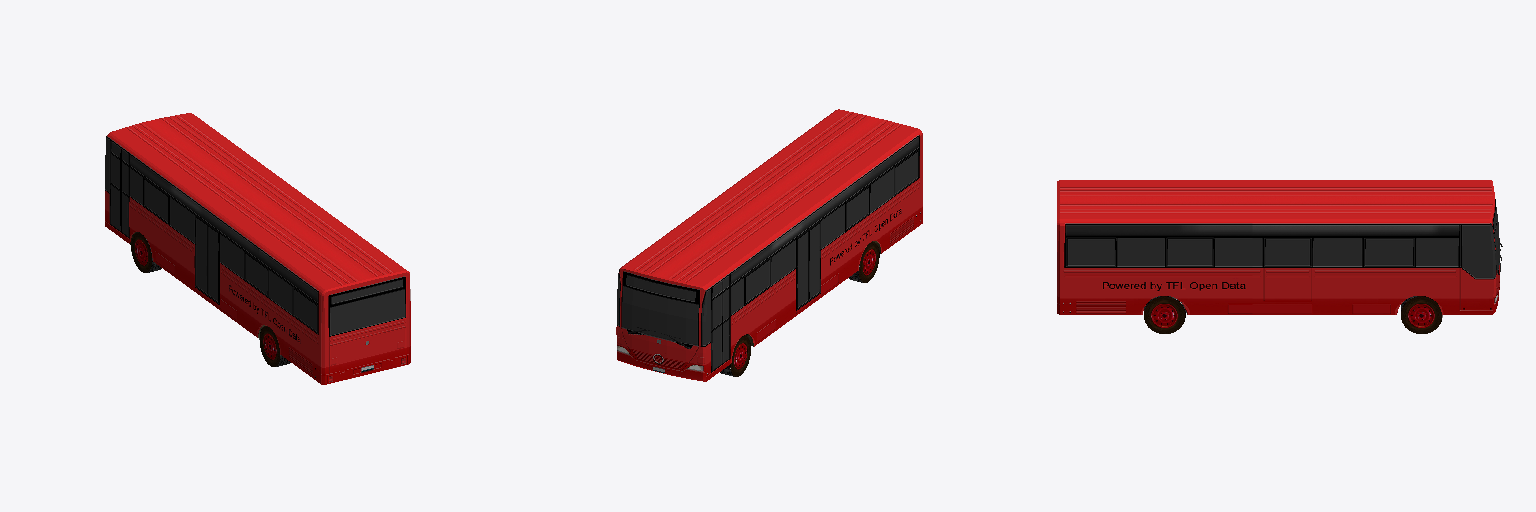
The picture shows the model from 3 angles: view 1: azimuth 30°, elevation 25°; view 2: azimuth 150°, elevation 25°; view 3: azimuth 270°, elevation 25°; orthographic projection.
Parts seen in each view (by area): view 1: shell, Cylinder02, Cylinder01; view 2: shell, Cylinder01, Cylinder02; view 3: shell, Cylinder04, Cylinder03.
Part boxes in pixels (x1,y1,x2,y2): shell: (105,113,410,384); Cylinder02: (131,232,161,272); Cylinder01: (259,326,290,366); shell: (616,109,922,381); Cylinder01: (849,241,879,282); Cylinder02: (720,336,750,376); shell: (1057,180,1499,314); Cylinder04: (1144,296,1185,333); Cylinder03: (1401,296,1442,333).
Size of the model in its own units: 1.79 by 2.18 by 7.73.
1 materials, 1 textured.